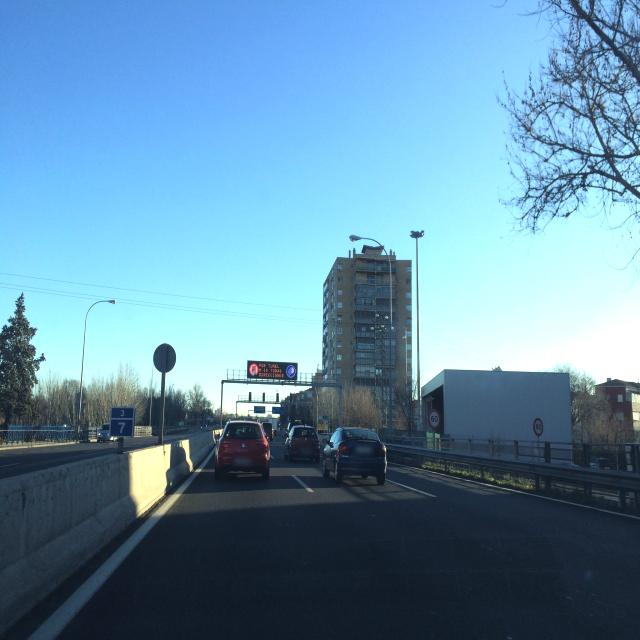car: (321, 426, 388, 485), (213, 419, 270, 481), (283, 424, 321, 464), (260, 420, 274, 442), (96, 423, 112, 442)
